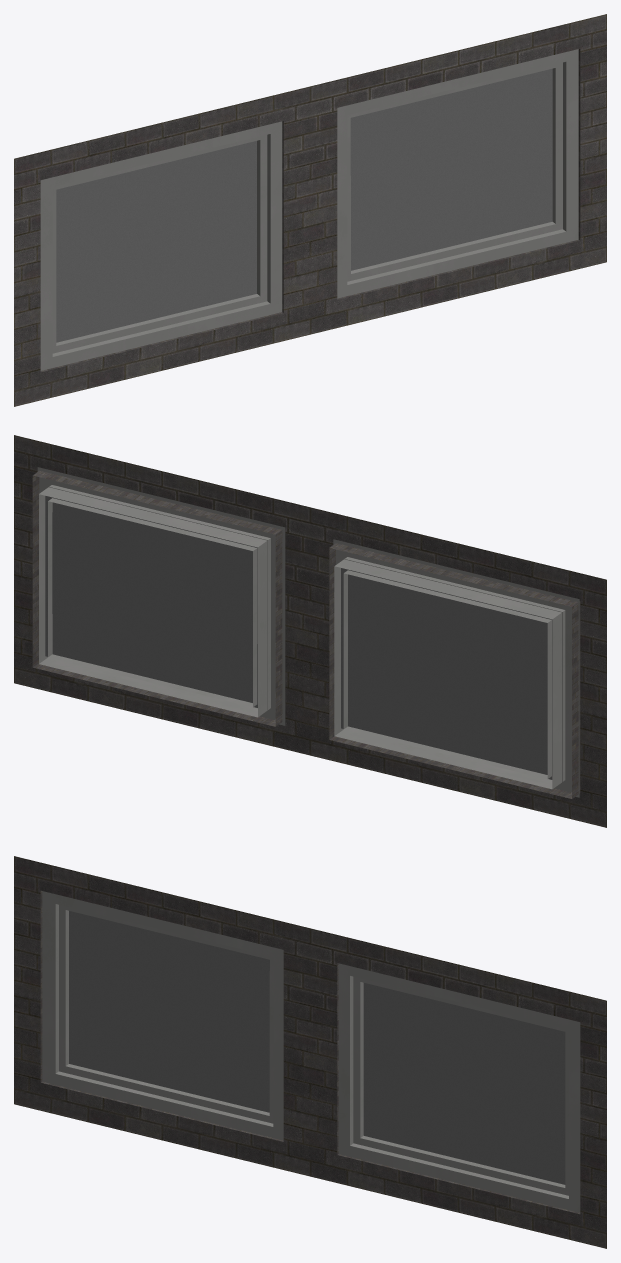
File: Sm_Wall01c03.fbx
3 views of the same model, one above another, from view 1: azimuth 30°, elevation 25°; view 2: azimuth 150°, elevation 25°; view 3: azimuth 330°, elevation 25° (orthographic).
Visible parts, largest first — view 1: Sm_Wall01c03; view 2: Sm_Wall01c03; view 3: Sm_Wall01c03.
Part boxes in pixels (left/top/right/bottom): Sm_Wall01c03: left=14, top=14, right=606, bottom=406; Sm_Wall01c03: left=14, top=435, right=606, bottom=827; Sm_Wall01c03: left=14, top=856, right=606, bottom=1248.
Size of what is drawn, in the model's own units: 250 by 10.57 by 100.
Materials: 3 (3 with a texture image).
